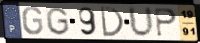9: (78, 6, 97, 37)
D: (98, 6, 125, 38)
G: (45, 6, 71, 36), (21, 6, 44, 36)
P: (154, 7, 178, 39)
U: (127, 5, 156, 39)
